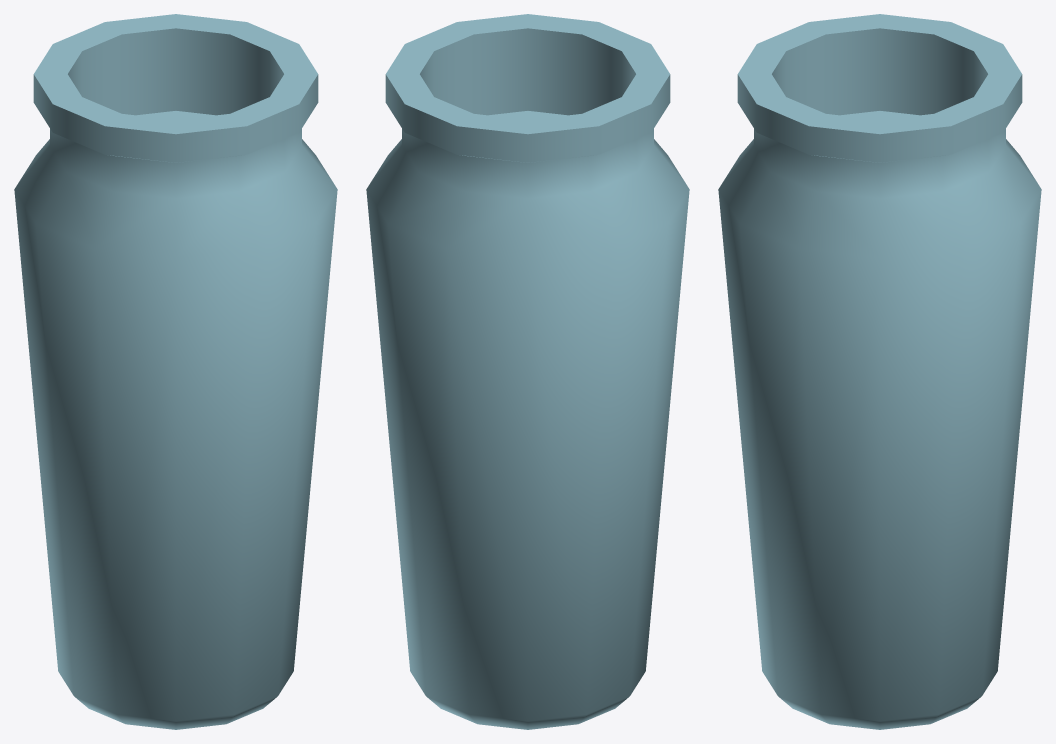
The model's file is lo_Prop_Vase_A.fbx.
3 renders of one model, left to right at view 1: azimuth 30°, elevation 25°; view 2: azimuth 150°, elevation 25°; view 3: azimuth 270°, elevation 25°, orthographic.
Visible parts, largest first — view 1: lo_Prop_Vase_A_LOD0; view 2: lo_Prop_Vase_A_LOD0; view 3: lo_Prop_Vase_A_LOD0.
Part boxes in pixels (bbox=[...]): lo_Prop_Vase_A_LOD0: bbox=[14, 14, 337, 729]; lo_Prop_Vase_A_LOD0: bbox=[366, 14, 689, 729]; lo_Prop_Vase_A_LOD0: bbox=[718, 14, 1041, 729].
Size of what is drawn, in the model's own units: 0.2501 by 0.5235 by 0.2501.
